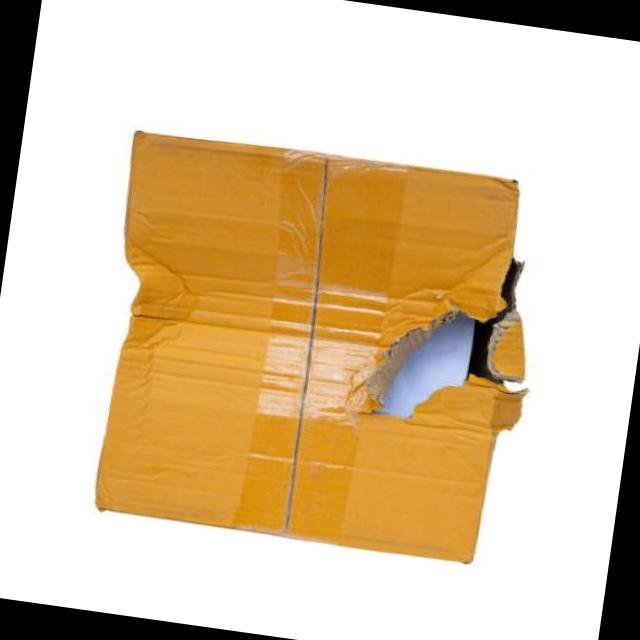box: (95, 131, 528, 565)
crushed: (118, 237, 204, 359)
tear: (360, 252, 528, 434)
